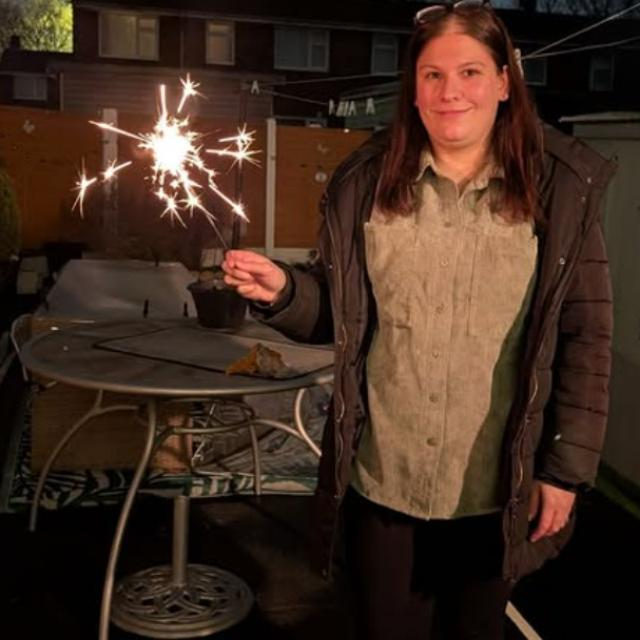fire: (139, 113, 217, 178)
